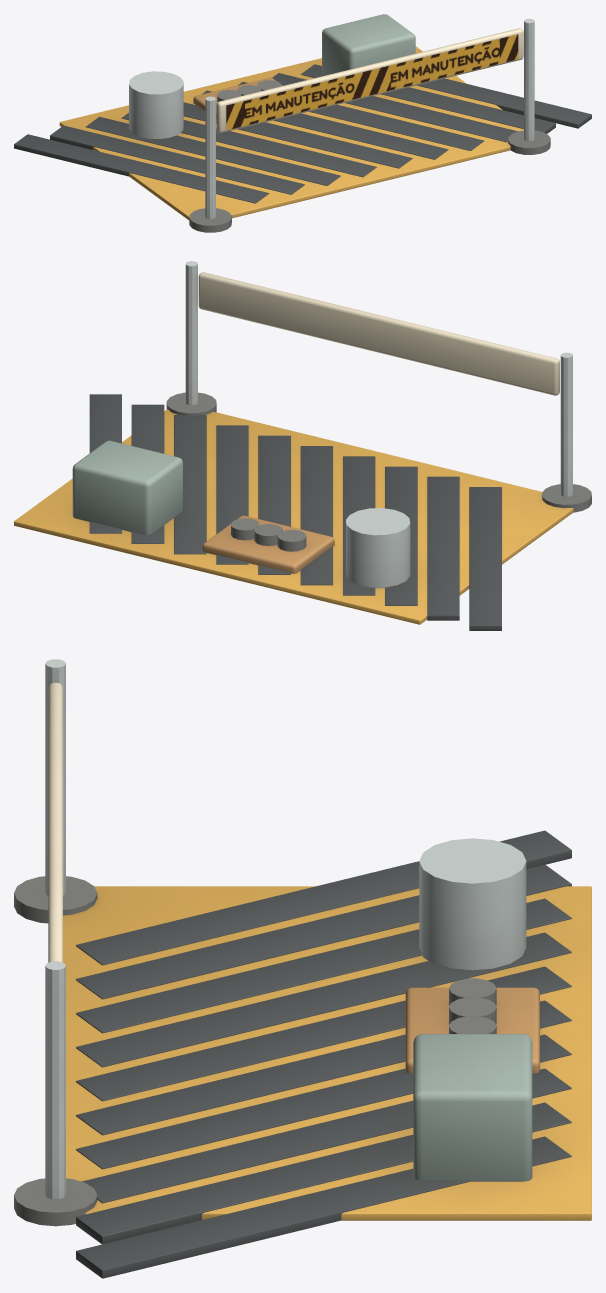
The model's file is RepairStation.fbx.
3 views of the same model, one above another, from view 1: azimuth 30°, elevation 25°; view 2: azimuth 150°, elevation 25°; view 3: azimuth 270°, elevation 25° (orthographic). The views are drawn at different scales.
Visible parts, largest first — view 1: RepairStation; view 2: RepairStation; view 3: RepairStation.
Boxes of the visible parts, x1,y1,x2,y2 form: RepairStation: (14,14,591,232); RepairStation: (14,261,591,630); RepairStation: (14,659,591,1278).
Size of the model in its own units: 349 by 90 by 194.
